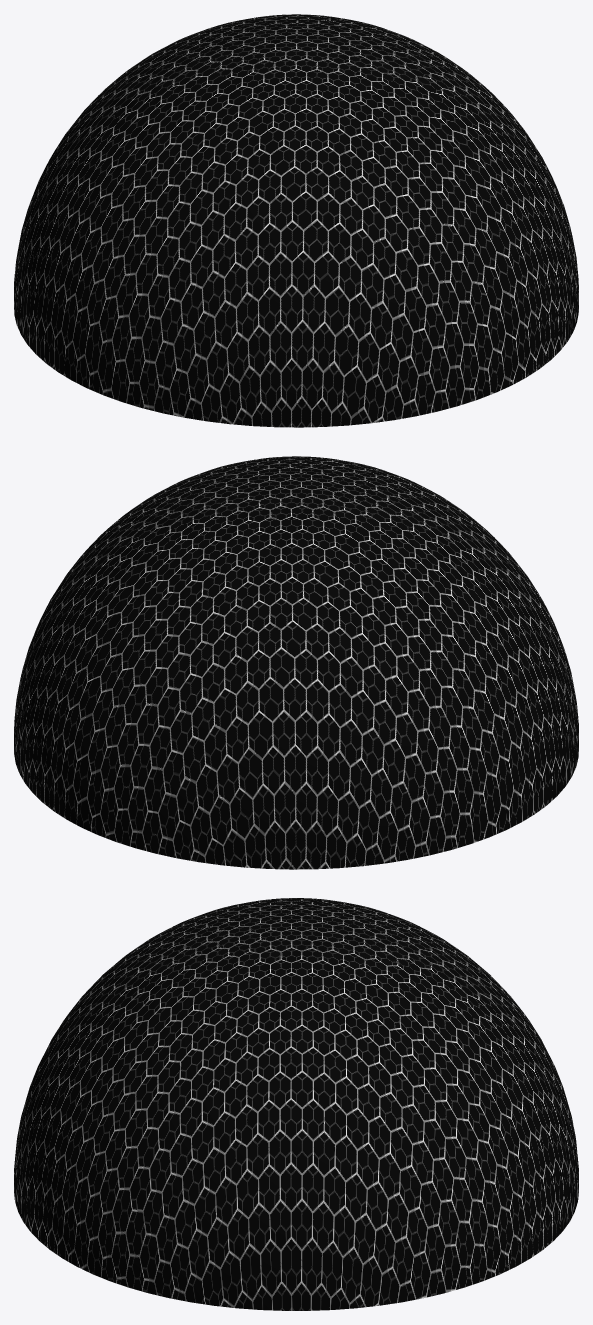
3 views of the same model, one above another, from view 1: azimuth 30°, elevation 25°; view 2: azimuth 150°, elevation 25°; view 3: azimuth 270°, elevation 25° (orthographic).
Parts seen in each view (by area): view 1: Sphere001; view 2: Sphere001; view 3: Sphere001.
Part boxes in pixels (x1,y1,x2,y2): Sphere001: [14, 14, 578, 427]; Sphere001: [14, 456, 578, 869]; Sphere001: [14, 898, 578, 1310].
Bounding box in the file's own units: 158 × 82.3 × 158.
Materials: 1 (1 with a texture image).
